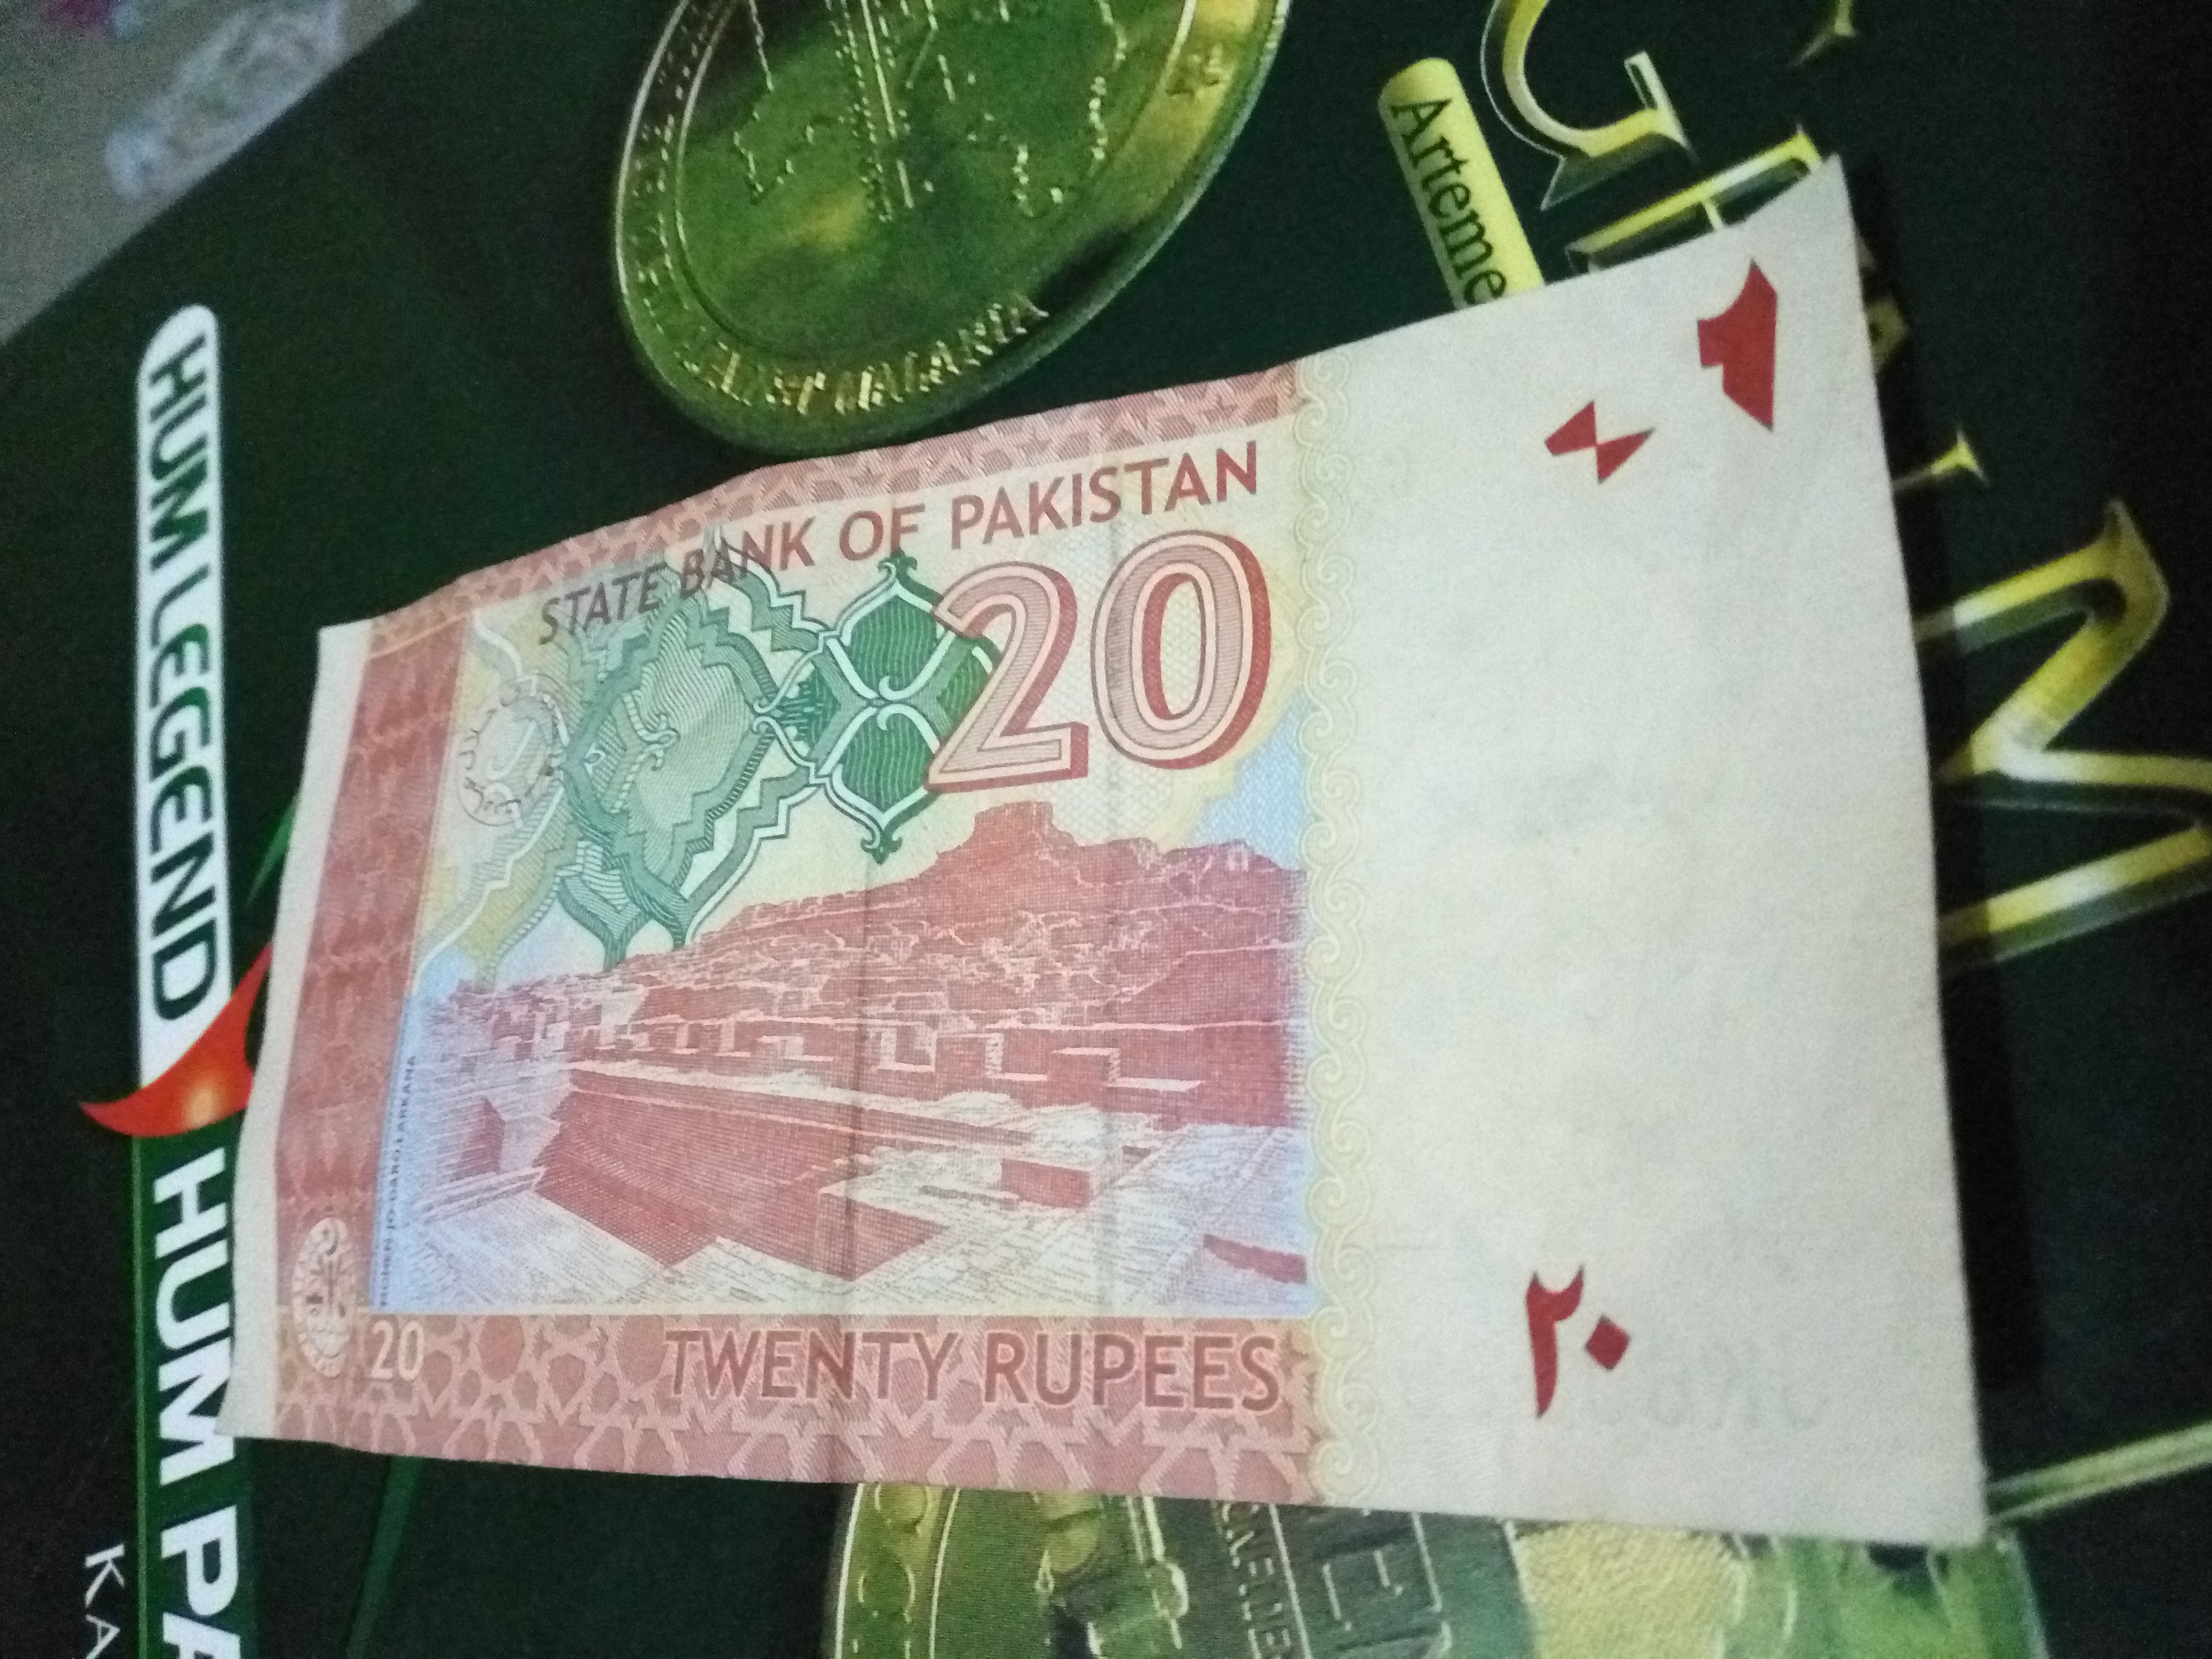20 rupee: (202, 211, 2017, 1596)
